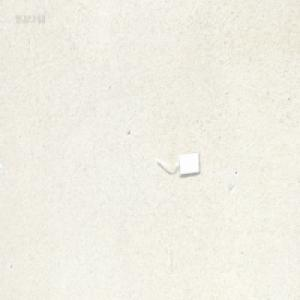LuggageTag: (155, 149, 199, 175)
